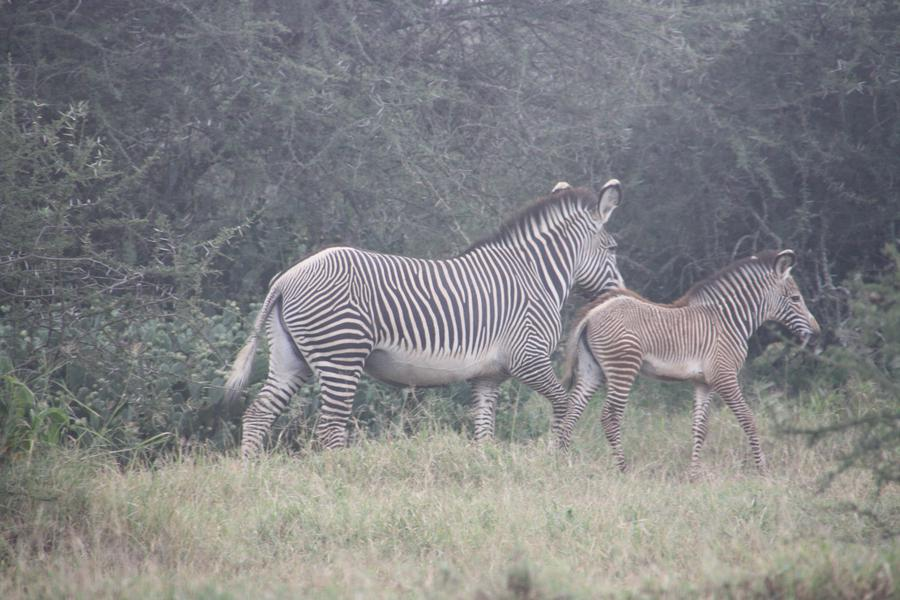zebra_grevys: (270, 253, 549, 355)
